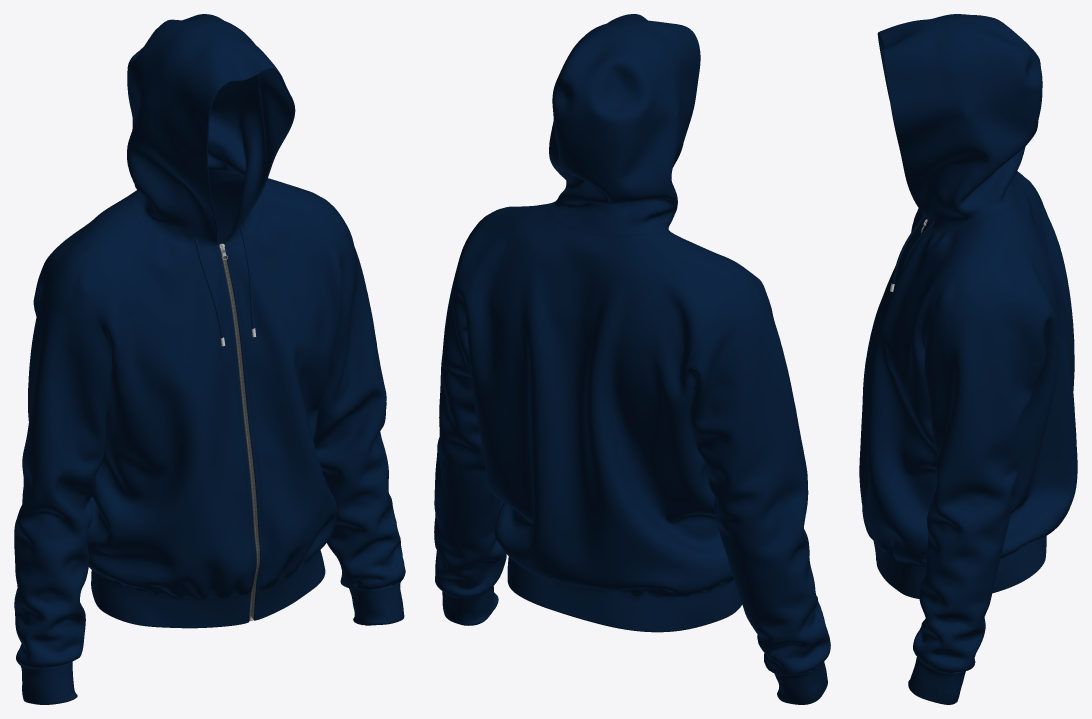
Rendered from Hoodie_Model.gltf.
The picture shows the model from 3 angles, left to right: view 1: azimuth 30°, elevation 25°; view 2: azimuth 150°, elevation 25°; view 3: azimuth 270°, elevation 25°; orthographic projection. The views are drawn at different scales.
Visible parts, largest first — view 1: hands down_OBJ_0; view 2: hands down_OBJ_0; view 3: hands down_OBJ_0.
Boxes of the visible parts, x1,y1,x2,y2 form: hands down_OBJ_0: [14, 14, 405, 704]; hands down_OBJ_0: [434, 14, 830, 704]; hands down_OBJ_0: [859, 14, 1077, 704].
Bounding box in the file's own units: 61.65 × 97.62 × 31.98.
Materials: 11 (10 with a texture image).
